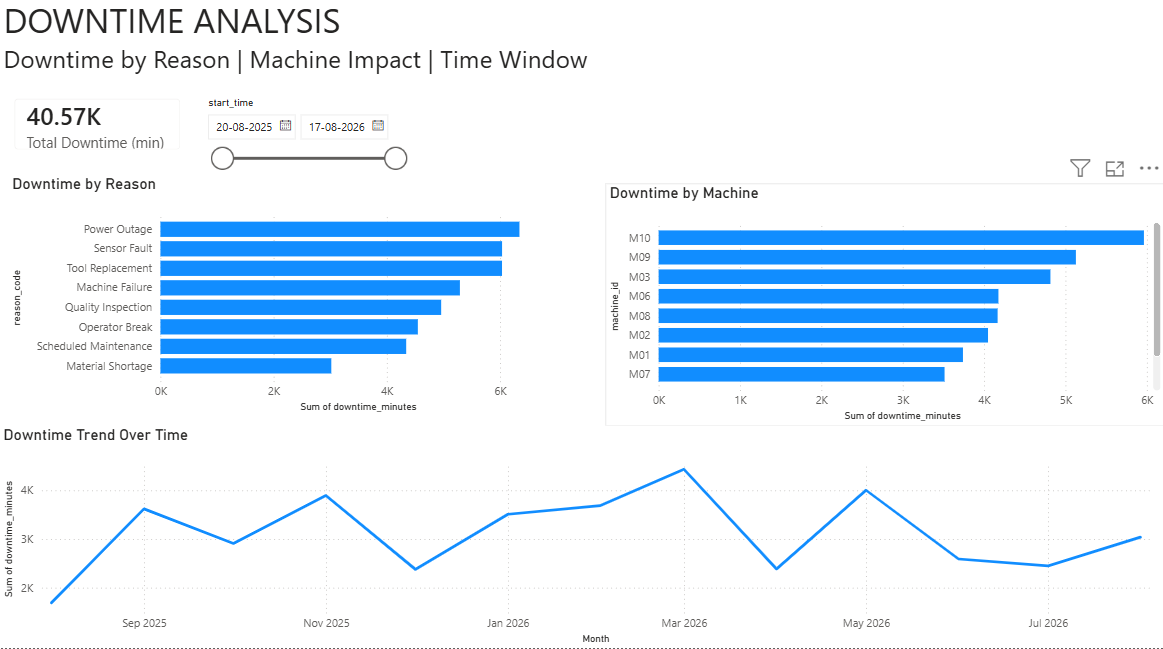

This screenshot's page, from the dashboard's own definition file:
{"tool":"powerbi","page":{"name":"Downtime Analysis","canvas":[1280,720],"ordinal":3},"visuals":[{"type":"textbox","box":[0,0,1280.3,90.6],"z":0},{"type":"cardVisual","fields":{"Data":["Sum(public machine_downtime.downtime_minutes)"]},"box":[0,90.6,216.8,109.8],"z":1000},{"type":"clusteredBarChart","title":"Downtime by Reason","fields":{"Category":["public machine_downtime.reason_code"],"Y":["Sum(public machine_downtime.downtime_minutes)"]},"box":[9.6,200.3,614.8,266.2],"z":2000},{"type":"clusteredBarChart","title":"Downtime by Machine","fields":{"Category":["public machine_downtime.machine_id"],"Y":["Sum(public machine_downtime.downtime_minutes)"]},"box":[665.5,209.9,614.8,266.2],"z":3000},{"type":"lineChart","title":"Downtime Trend Over Time","fields":{"Y":["Sum(public machine_downtime.downtime_minutes)"],"Category":["public machine_downtime.start_time.Variation.Date Hierarchy.Year","public machine_downtime.start_time.Variation.Date Hierarchy.Month"]},"box":[0,476.2,1280.3,244.3],"z":4000},{"type":"slicer","fields":{"Values":["public machine_downtime.start_time"]},"box":[216.8,100.2,240.1,90.6],"z":5000}]}

Visuals, with their boxes in screenshot pixels (x1, y1, x2, y2), scaled from the page's 1280x720 canvas onto the 1163x649 screenshot:
textbox: select_region(0, 0, 1162, 82)
cardVisual - Sum(public machine_downtime.downtime_minutes): select_region(0, 82, 197, 181)
"Downtime by Reason" clusteredBarChart: select_region(9, 181, 567, 420)
"Downtime by Machine" clusteredBarChart: select_region(605, 189, 1162, 429)
"Downtime Trend Over Time" lineChart: select_region(0, 429, 1162, 648)
slicer - public machine_downtime.start_time: select_region(197, 90, 415, 172)
